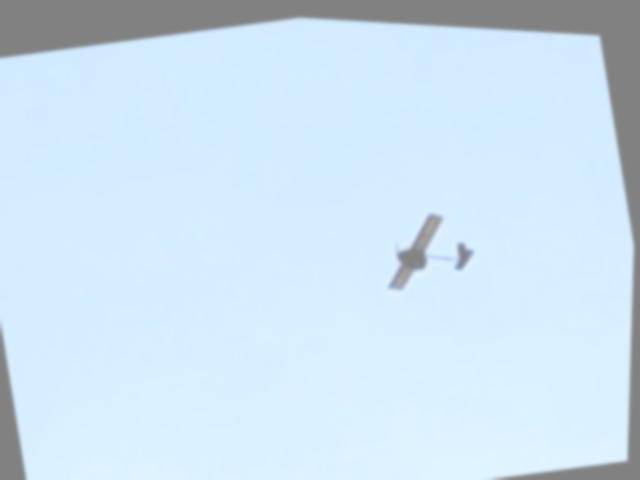uav: (368, 190, 486, 299)
